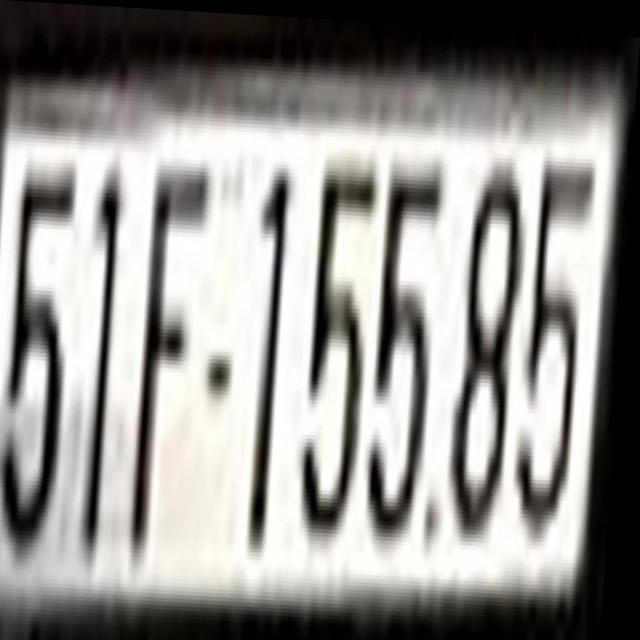1: (240, 121, 301, 593), (78, 168, 133, 569)
5: (294, 143, 381, 554), (366, 142, 449, 545), (3, 160, 87, 547), (518, 141, 599, 536)
8: (453, 146, 529, 537)
F: (131, 139, 217, 577)
